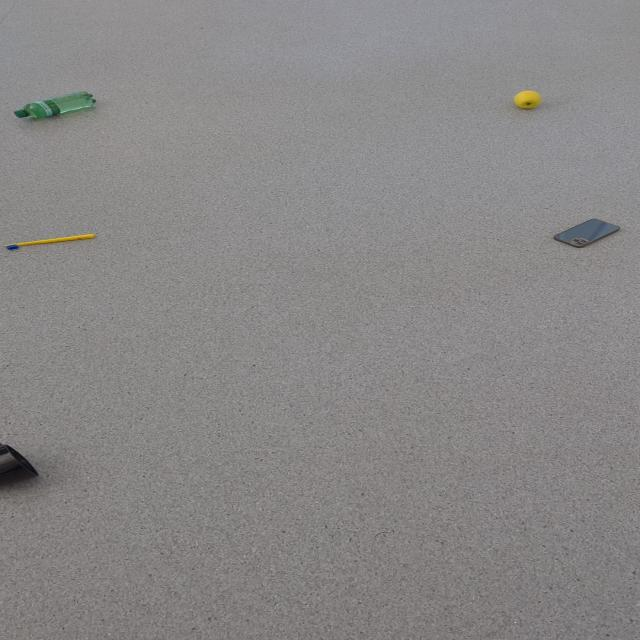apple: (512, 90, 542, 109)
bottle: (13, 91, 96, 119)
mug: (0, 441, 42, 487)
phone: (552, 218, 620, 248)
toothbrush: (4, 233, 96, 250)
